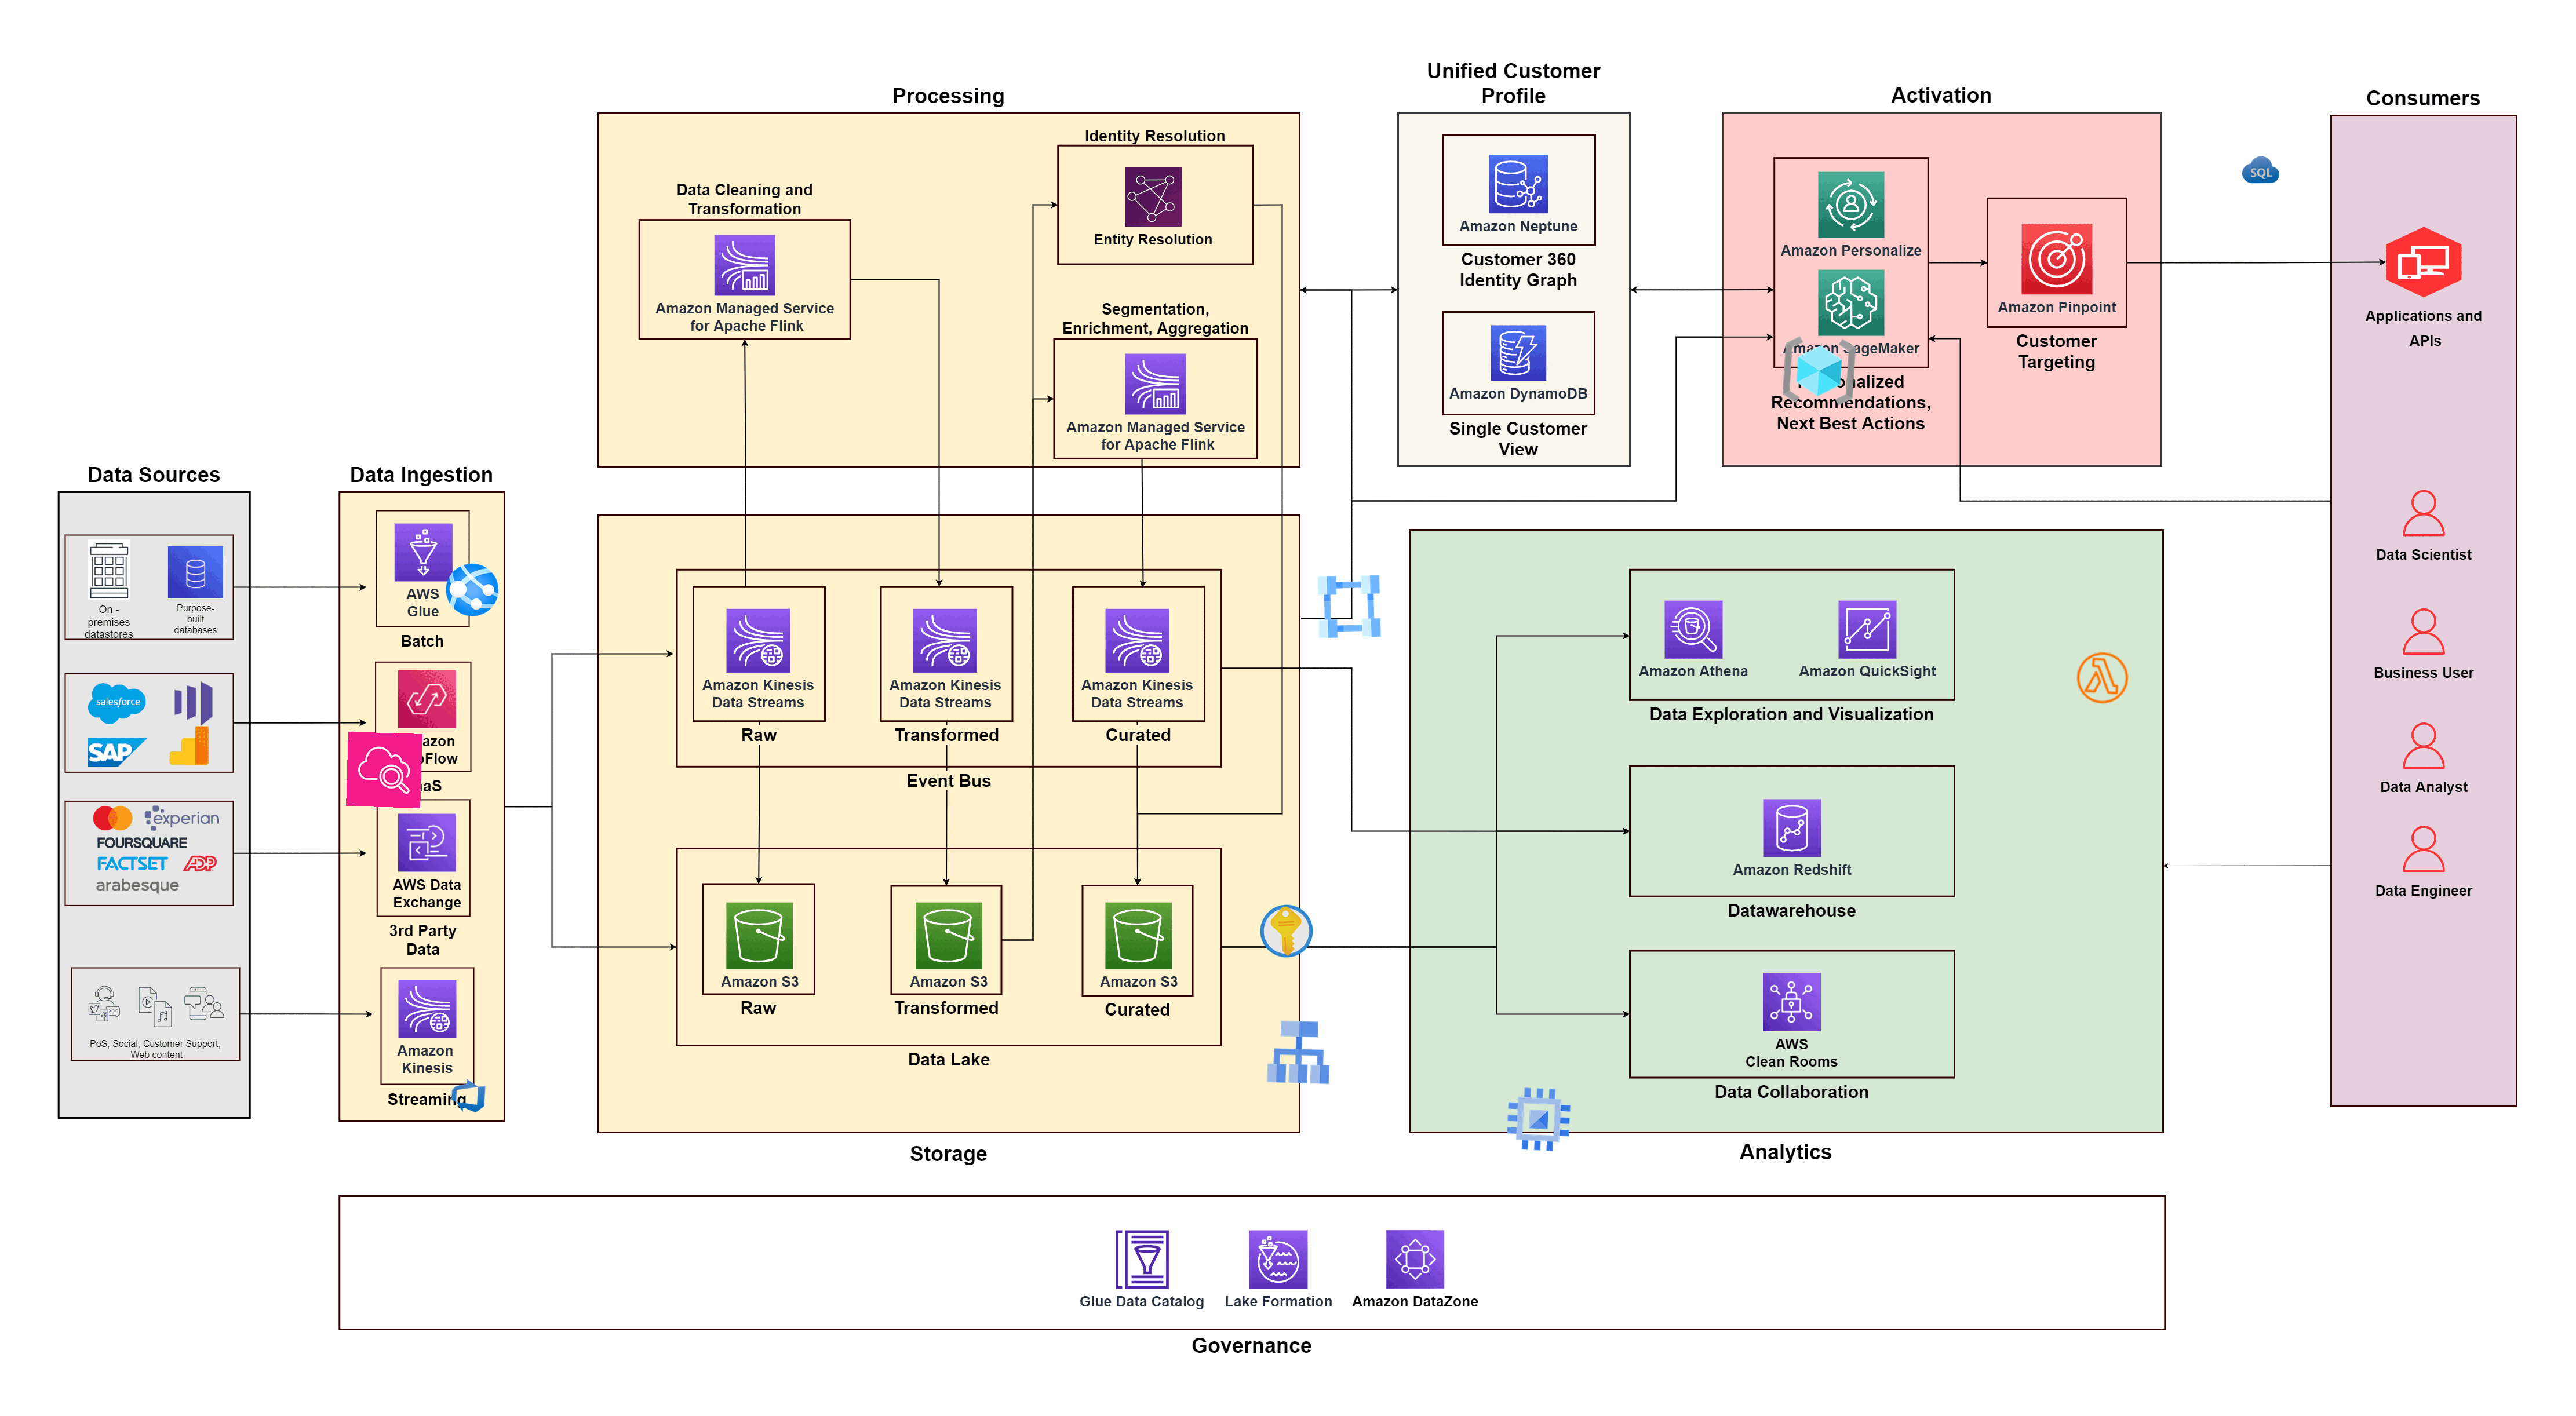aws_amazon_cloudwatch: (345, 732, 422, 807)
aws_lambda_lambda_function: (2072, 647, 2133, 708)
azure_app_services: (443, 562, 501, 619)
azure_devops: (448, 1076, 488, 1116)
azure_key_vaults: (1257, 902, 1317, 961)
azure_resource_groups: (1779, 331, 1859, 410)
azure_sql: (2241, 152, 2280, 190)
gcp_cloud_load_balancing: (1261, 1013, 1338, 1090)
gcp_compute_engine: (1500, 1081, 1577, 1158)
gcp_virtual_private_cloud: (1312, 568, 1387, 645)
